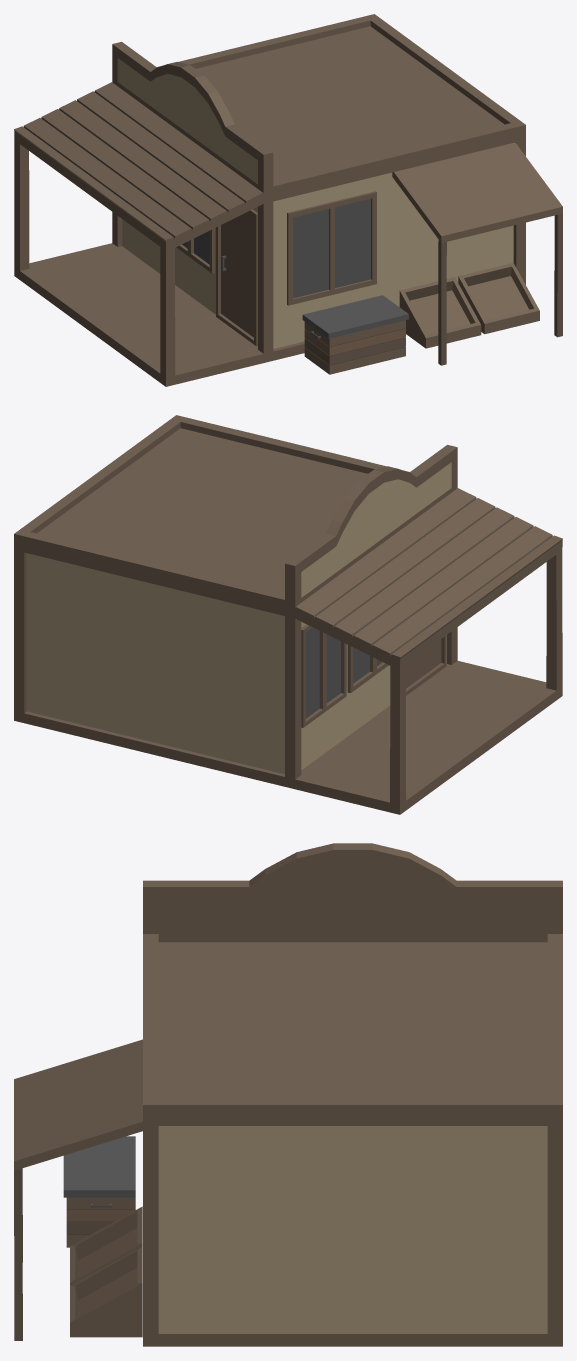
File: booth_02.fbx
3 views of the same model, one above another, from view 1: azimuth 30°, elevation 25°; view 2: azimuth 150°, elevation 25°; view 3: azimuth 270°, elevation 25° (orthographic). The views are drawn at different scales.
Visible parts, largest first — view 1: booth_02, crate, chest; view 2: booth_02; view 3: booth_02, crate, chest.
Part boxes in pixels (x1,y1,x2,y2): booth_02: [14, 14, 562, 386]; crate: [399, 263, 539, 348]; chest: [302, 295, 408, 374]; booth_02: [14, 415, 562, 814]; booth_02: [14, 843, 562, 1346]; crate: [70, 1206, 142, 1337]; chest: [63, 1136, 135, 1247].
Bounding box in the file's own units: 8.09 × 7.69 × 5.06.
